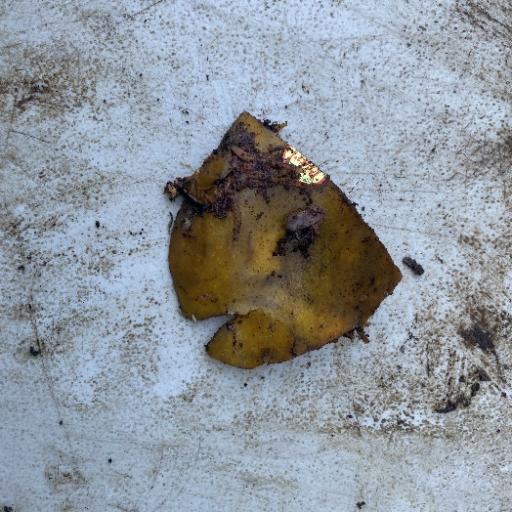Waste: (162, 110, 404, 370)
